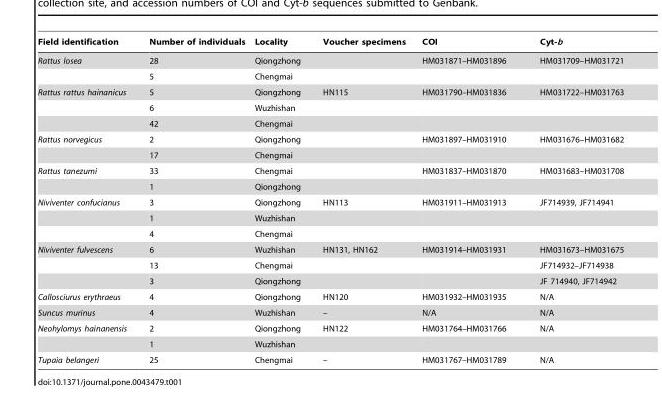table: (37, 37, 623, 364)
table column: (137, 37, 249, 364), (413, 37, 522, 364), (311, 37, 413, 364), (522, 37, 623, 364), (37, 37, 137, 364), (249, 37, 311, 364)
table column header: (37, 37, 623, 51)
table row: (37, 51, 623, 68), (37, 68, 623, 84), (37, 99, 623, 115), (37, 115, 623, 131), (37, 131, 623, 147), (37, 162, 623, 178), (37, 178, 623, 194), (37, 194, 623, 210), (37, 225, 623, 241), (37, 241, 623, 257), (37, 257, 623, 273), (37, 288, 623, 304), (37, 304, 623, 320), (37, 320, 623, 336), (37, 84, 623, 99), (37, 147, 623, 162), (37, 210, 623, 225), (37, 273, 623, 288), (37, 336, 623, 351), (37, 37, 623, 51), (37, 351, 623, 364)
table spanning cell: (37, 84, 137, 131), (37, 194, 137, 241), (37, 241, 137, 288), (37, 51, 137, 84), (37, 162, 137, 194), (37, 131, 137, 162), (37, 320, 137, 351)
